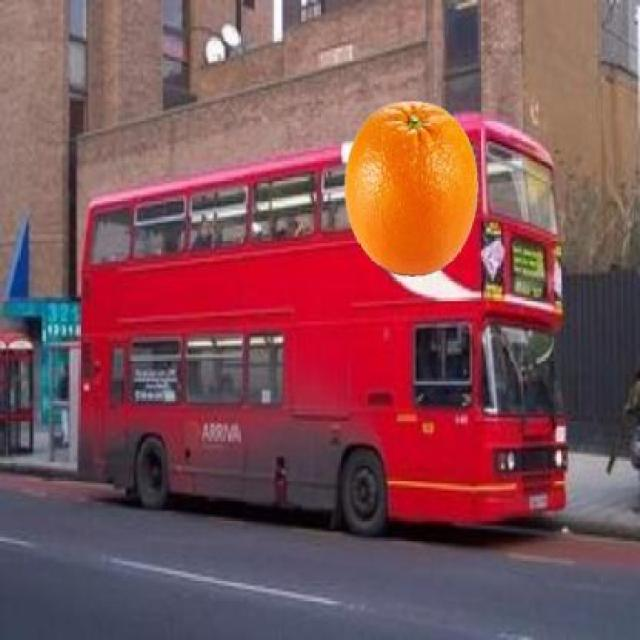Orange: (342, 97, 480, 277)
